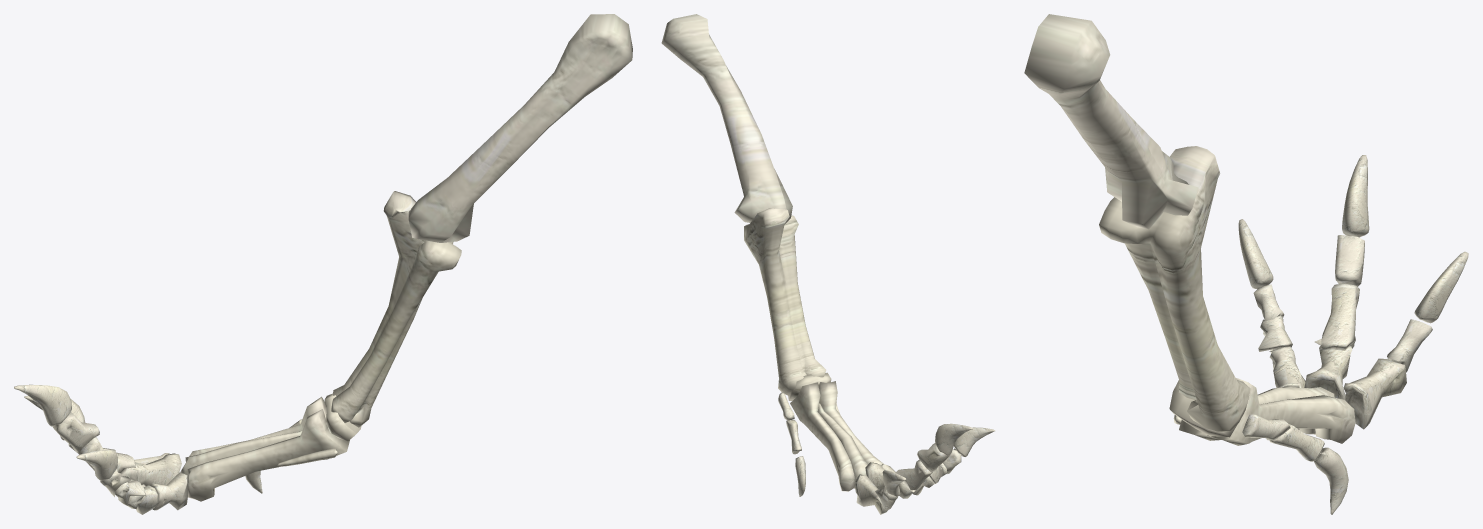
The model's file is dinoPata.obj.
The picture shows the model from 3 angles, left to right: view 1: azimuth 30°, elevation 25°; view 2: azimuth 150°, elevation 25°; view 3: azimuth 270°, elevation 25°; orthographic projection. The views are drawn at different scales.
Parts seen in each view (by area): view 1: pierna; view 2: pierna; view 3: pierna.
Boxes of the visible parts, x1,y1,x2,y2 form: pierna: (14, 14, 632, 514); pierna: (661, 14, 995, 514); pierna: (1024, 14, 1468, 514).
Size of the model in its own units: 6.19 by 5.69 by 3.53.
Materials: 1 (1 with a texture image).
